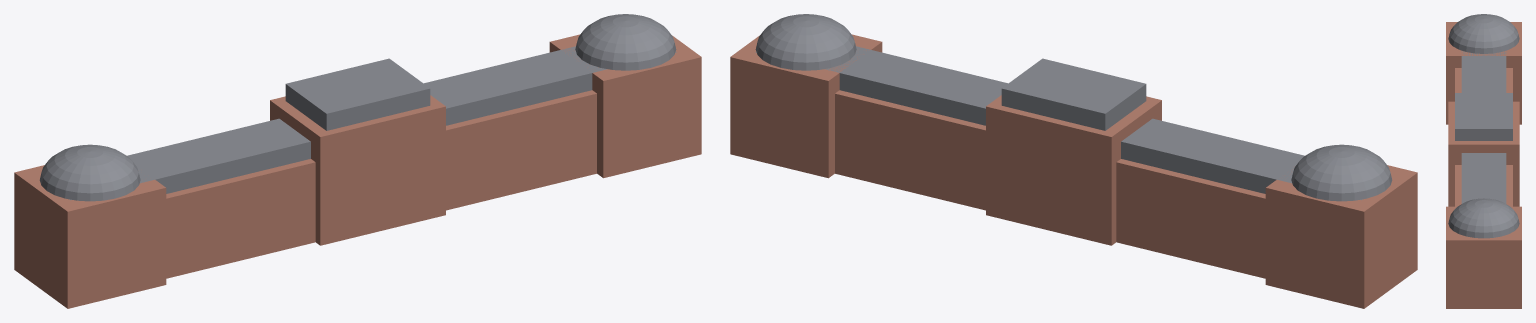
File: tokyo_station.glb
3 renders of one model, left to right at view 1: azimuth 30°, elevation 25°; view 2: azimuth 150°, elevation 25°; view 3: azimuth 270°, elevation 25°, orthographic. The views are drawn at different scales.
Visible parts, largest first — view 1: Cube, Cube.004, Cube.002, Cube.001, Cube.005, Cube.003, Sphere.001, Sphere; view 2: Cube, Cube.004, Cube.002, Cube.001, Cube.005, Cube.003, Sphere.001, Sphere; view 3: Cube.005, Cube.001, Cube.003, Cube.002, Sphere.001, Sphere, Cube.004, Cube.
Part boxes in pixels (<box>): Cube: <box>166,90,596,278</box>; Cube.004: <box>14,165,166,308</box>; Cube.002: <box>270,95,445,245</box>; Cube.001: <box>69,46,676,200</box>; Cube.005: <box>549,34,701,178</box>; Cube.003: <box>285,58,430,130</box>; Sphere.001: <box>575,14,676,70</box>; Sphere: <box>39,144,140,201</box>; Cube: <box>835,90,1265,278</box>; Cube.004: <box>1265,165,1417,308</box>; Cube.002: <box>986,95,1161,245</box>; Cube.001: <box>755,46,1362,200</box>; Cube.005: <box>730,34,882,178</box>; Cube.003: <box>1001,58,1146,130</box>; Sphere.001: <box>755,14,856,70</box>; Sphere: <box>1291,144,1392,201</box>; Cube.005: <box>1446,206,1521,308</box>; Cube.001: <box>1461,51,1506,203</box>; Cube.003: <box>1455,93,1512,140</box>; Cube.002: <box>1448,101,1519,206</box>; Sphere.001: <box>1448,198,1519,238</box>; Sphere: <box>1448,14,1519,53</box>; Cube.004: <box>1446,22,1521,124</box>; Cube: <box>1455,68,1512,206</box>.
Bounding box in the file's own units: 232 × 44 × 34.
